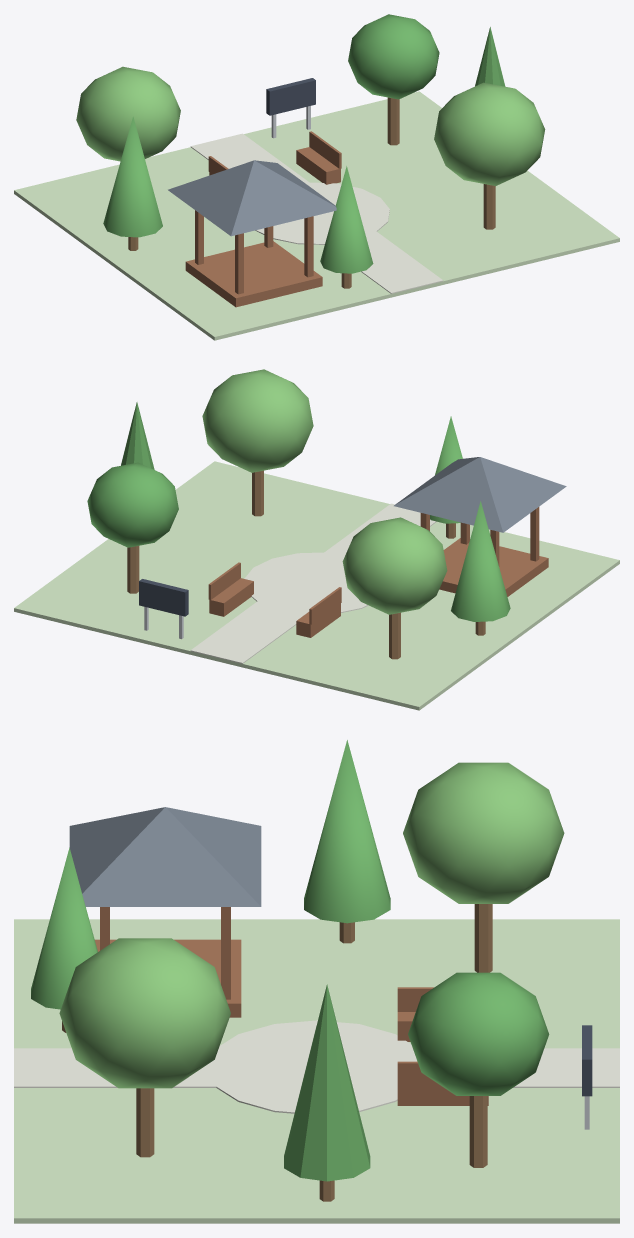
File: park.glb
The picture shows the model from 3 angles, top to bottom: view 1: azimuth 30°, elevation 25°; view 2: azimuth 150°, elevation 25°; view 3: azimuth 270°, elevation 25°; orthographic projection. The views are drawn at different scales.
Parts seen in each view (by area): view 1: Body; view 2: Body; view 3: Body.
Boxes of the visible parts, x1,y1,x2,y2 form: Body: (14, 14, 619, 340); Body: (14, 369, 619, 710); Body: (14, 740, 619, 1223).
Size of the model in its own units: 14 by 4.82 by 12.
